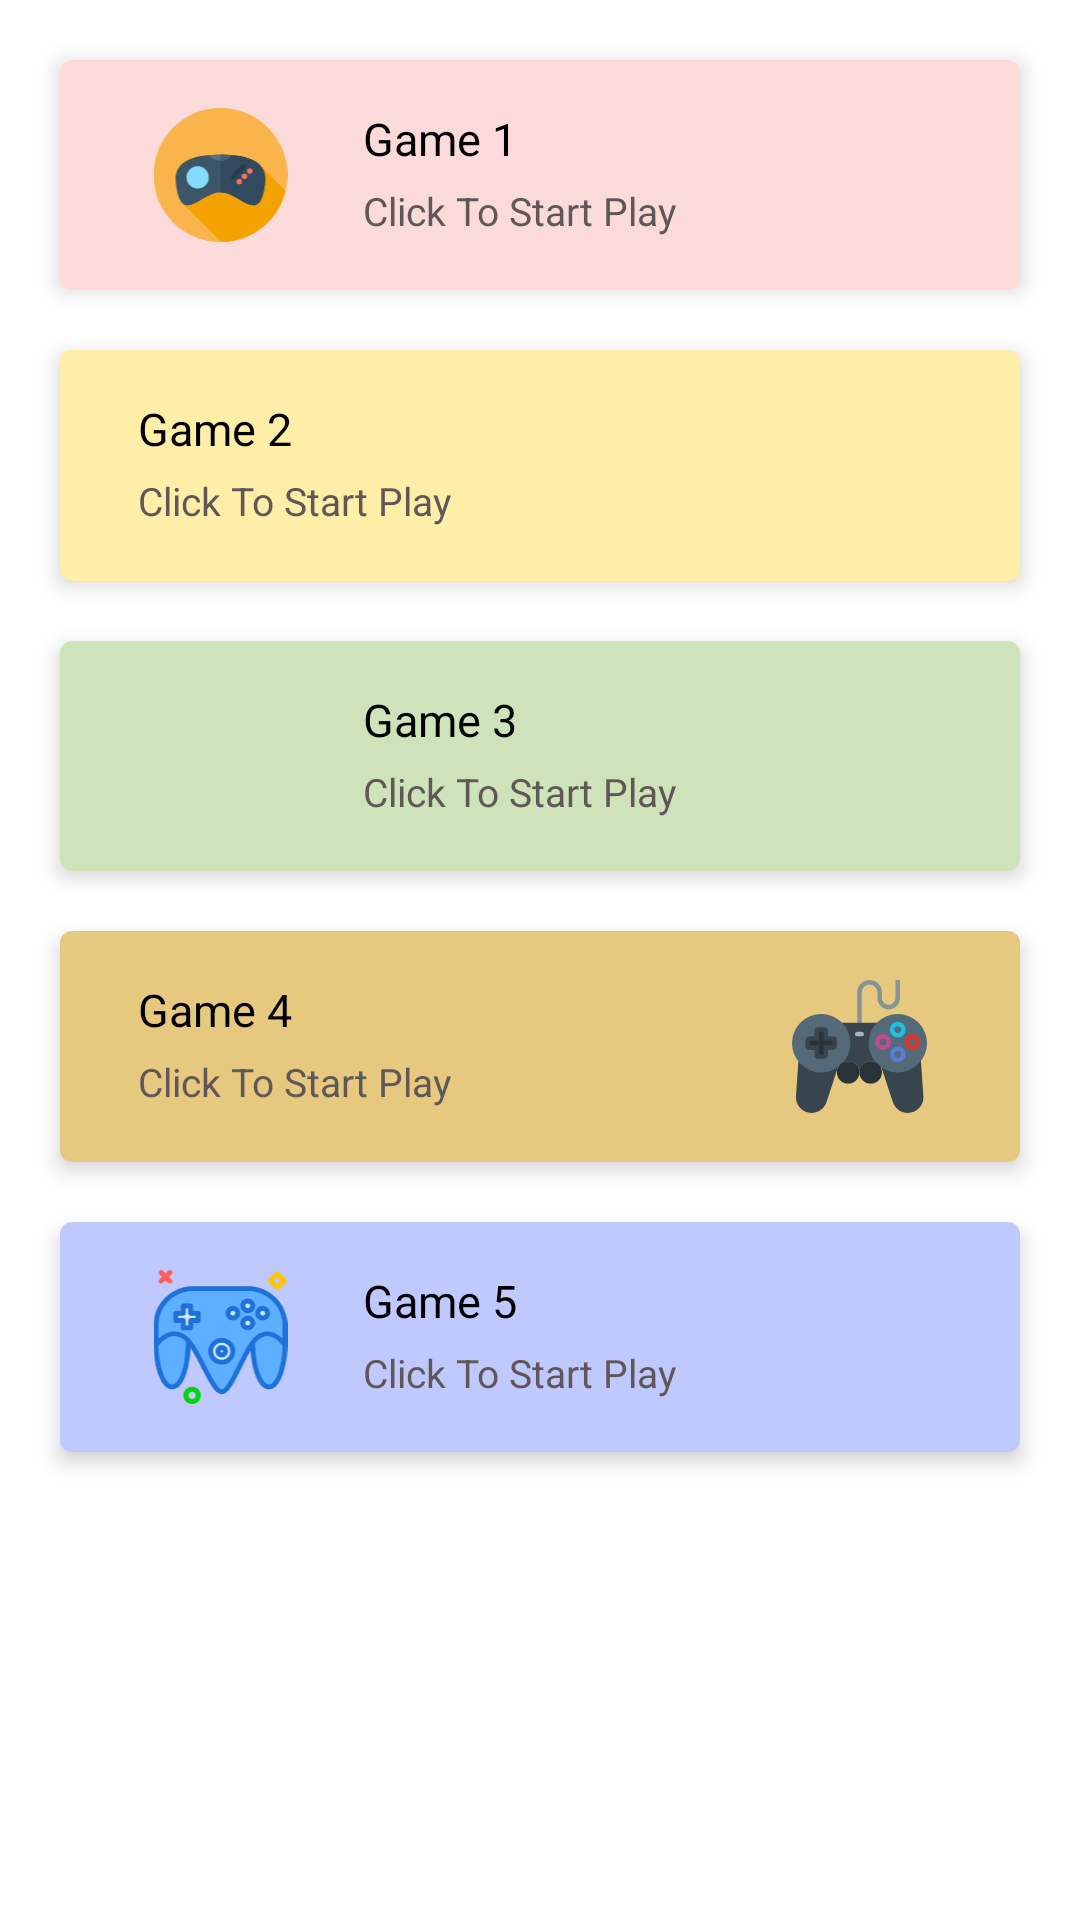

Where icons sit on this 1080*1920 app screen, as (left=x1, top=y1, right=x2, bottom=y2):
game controller: (left=792, top=980, right=927, bottom=1113), (left=154, top=1270, right=288, bottom=1404)
